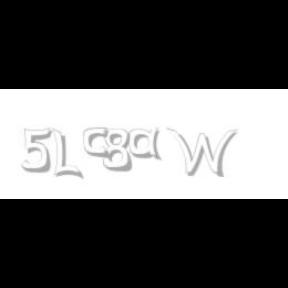5: (21, 128, 52, 174)
8: (102, 128, 132, 172)
L: (52, 128, 80, 180)
W: (166, 128, 238, 178)
a: (128, 128, 165, 160)
c: (83, 128, 112, 160)
